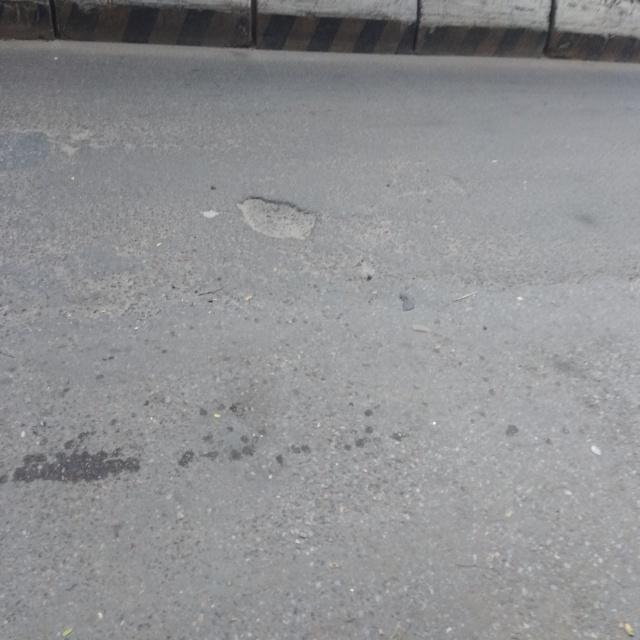Pothole: (234, 191, 322, 247)
Surface Erosion: (14, 82, 180, 334)
